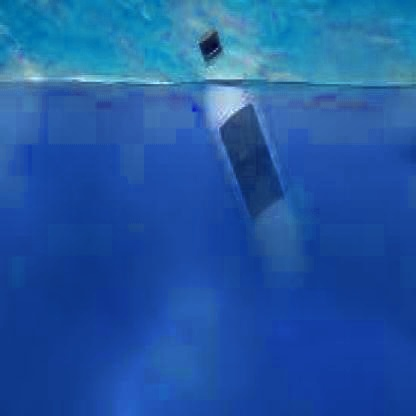pbottle: (183, 14, 306, 275)
